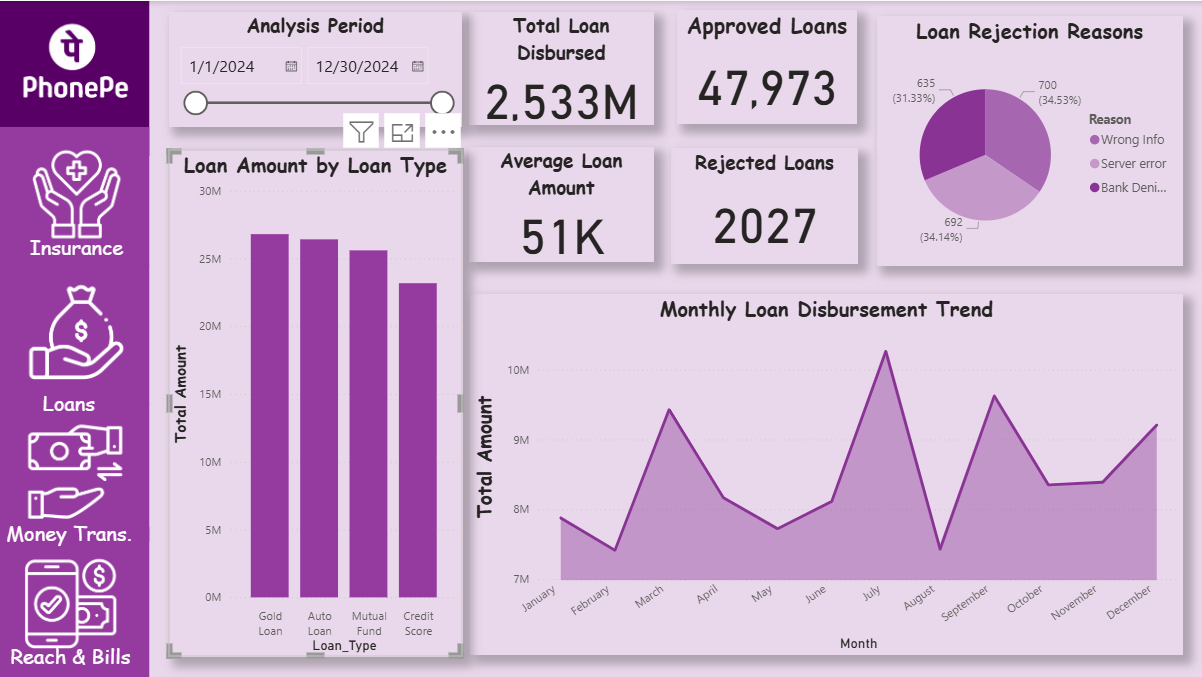

Layout of this report page (visuals, bound fields, positions):
{"tool":"powerbi","page":{"name":"Loans","canvas":[1280,720],"ordinal":3},"visuals":[{"type":"shape","box":[0,0,159.4,164.1],"z":0},{"type":"shape","box":[0,132.9,159.4,146.9],"z":1000},{"type":"shape","box":[0,279.8,159.4,146.9],"z":2000},{"type":"shape","box":[0,558,159.4,162.6],"z":3000},{"type":"shape","box":[0,426.7,159.4,146.9],"z":4000},{"type":"image","box":[12.5,10.9,136,111],"z":5000},{"type":"image","box":[14.1,150,136,111],"z":6000},{"type":"image","box":[15.6,293.8,136,111],"z":7000},{"type":"image","box":[7.8,583,136,111],"z":8000},{"type":"image","box":[12.5,443.9,136,111],"z":9000},{"type":"textbox","box":[7.8,240.7,148.5,39.1],"z":10000},{"type":"textbox","box":[0,404.8,148.5,39.1],"z":11000},{"type":"textbox","box":[0,543.9,148.5,39.1],"z":12000},{"type":"textbox","box":[1.6,673.6,148.5,39.1],"z":13000},{"type":"slicer","title":"Analysis Period","fields":{"Values":["All_Transactions.Date"]},"box":[179.7,10.9,311,121.9],"z":14000},{"type":"card","title":"Total Loan Disbursed","fields":{"Values":["Sum(Loans.Loan_Amount)"]},"box":[498.3,10.7,196.5,120.9],"z":15000},{"type":"card","title":"Approved Loans","fields":{"Values":["CountNonNull(Loans.Loan_Amount)"]},"box":[719.4,8.8,190.9,120.9],"z":16000},{"type":"card","title":"Average Loan Amount","fields":{"Values":["Avg(Loans.Loan_Amount)"]},"box":[498.3,154.3,196.5,122.8],"z":17000},{"type":"card","title":"Rejected Loans","fields":{"Values":["CountNonNull(Loans.Loan_Amount)"]},"box":[711.8,156.2,198.4,122.8],"z":18000},{"type":"pieChart","title":"Loan Rejection Reasons","fields":{"Category":["Loans.Reason"],"Y":["CountNonNull(Loans.Reason)"]},"box":[929.8,15.1,325,264.6],"z":19000},{"type":"actionButton","box":[4.8,144.7,151.1,133.6],"z":20000},{"type":"actionButton","box":[1.6,442.2,149.5,141.6],"z":21000},{"type":"areaChart","title":"Monthly Loan Disbursement Trend","fields":{"Category":["Loans.Date.Variation.Date Hierarchy.Month"],"Y":["Sum(Loans.Loan_Amount)"]},"box":[498.9,309.9,755.9,383.6],"z":22000},{"type":"clusteredColumnChart","title":"Loan Amount by Loan Type ","fields":{"Category":["Loans.Loan_Type"],"Y":["Sum(Loans.Loan_Amount)"]},"box":[179.5,156.9,311.8,538.6],"z":23000},{"type":"actionButton","box":[1.6,574.2,149.5,140],"z":24000},{"type":"actionButton","box":[6.4,8,149.5,122.5],"z":25000}]}

Visuals, with their boxes in screenshot pixels (x1, y1, x2, y2), scaled from the page's 1280x720 canvas onto the 1202x677 screenshot:
shape: (0,0,150,154)
shape: (0,125,150,263)
shape: (0,263,150,401)
shape: (0,525,150,676)
shape: (0,401,150,539)
image: (12,10,139,115)
image: (13,141,141,245)
image: (15,276,142,381)
image: (7,548,135,653)
image: (12,417,139,522)
textbox: (7,226,147,263)
textbox: (0,381,139,417)
textbox: (0,511,139,548)
textbox: (2,633,141,670)
"Analysis Period" slicer: (169,10,461,125)
"Total Loan Disbursed" card: (468,10,652,124)
"Approved Loans" card: (676,8,855,122)
"Average Loan Amount" card: (468,145,652,261)
"Rejected Loans" card: (668,147,855,262)
"Loan Rejection Reasons" pieChart: (873,14,1178,263)
actionButton: (5,136,146,262)
actionButton: (2,416,142,549)
"Monthly Loan Disbursement Trend" areaChart: (468,291,1178,652)
"Loan Amount by Loan Type " clusteredColumnChart: (169,148,461,654)
actionButton: (2,540,142,672)
actionButton: (6,8,146,123)
